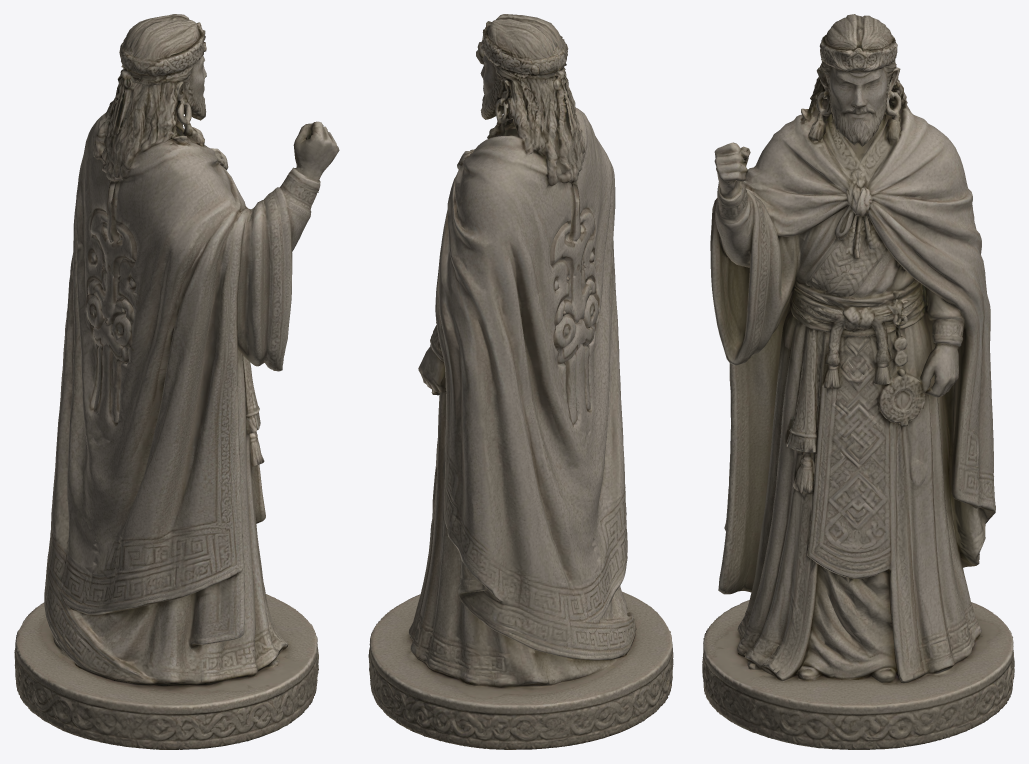
The model's file is stone_king_statue_3d_model.fbx.
3 renders of one model, left to right at view 1: azimuth 30°, elevation 25°; view 2: azimuth 150°, elevation 25°; view 3: azimuth 270°, elevation 25°, orthographic.
Visible parts, largest first — view 1: tripo_node_4b756e46; view 2: tripo_node_4b756e46; view 3: tripo_node_4b756e46.
Part boxes in pixels (<box>): tripo_node_4b756e46: <box>14,14,339,749</box>; tripo_node_4b756e46: <box>368,14,673,749</box>; tripo_node_4b756e46: <box>702,14,1014,749</box>.
Size of the model in its own units: 0.4022 by 0.9794 by 0.4166.
